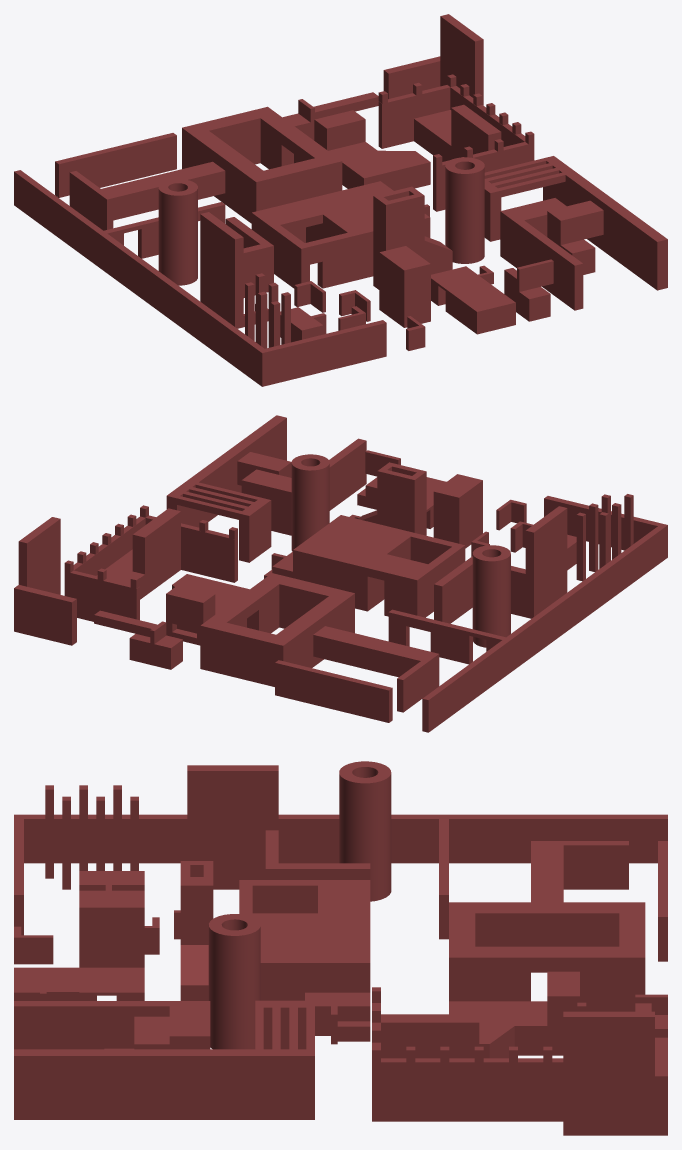
The model's file is my_robotics_gym.dae.
3 views of the same model, one above another, from view 1: azimuth 30°, elevation 25°; view 2: azimuth 150°, elevation 25°; view 3: azimuth 270°, elevation 25° (orthographic). The views are drawn at different scales.
Visible parts, largest first — view 1: Diferencia, group_17, Diferencia.001, Unir.004, group_9, group_5, group_18, group_41, group_25, Unir.002, group_48, group_31 (+25 smaller); view 2: Diferencia.001, Diferencia, group_17, Unir.004, group_41, group_25, group_5, Unir.005, group_9, group_15, group_31, Unir.002 (+24 smaller); view 3: group_9, group_17, Diferencia, Diferencia.001, Unir.004, group_29, group_25, group_5, group_48, group_31, group_20, Unir (+24 smaller).
Boxes of the visible parts, <box> form: Diferencia: <box>182,106,342,223</box>; group_17: <box>14,170,268,386</box>; Diferencia.001: <box>251,181,430,288</box>; Unir.004: <box>378,74,534,211</box>; group_9: <box>543,156,667,290</box>; group_5: <box>500,198,583,310</box>; group_18: <box>265,320,386,385</box>; group_41: <box>55,133,176,197</box>; group_25: <box>200,212,243,328</box>; Unir.002: <box>373,186,452,289</box>; group_48: <box>445,157,484,263</box>; group_31: <box>158,179,197,285</box>; Diferencia.001: <box>293,515,465,617</box>; Diferencia: <box>200,573,354,686</box>; group_17: <box>422,523,667,732</box>; Unir.004: <box>64,505,237,621</box>; group_41: <box>275,660,392,722</box>; group_25: <box>525,506,567,618</box>; group_5: <box>241,438,366,535</box>; Unir.005: <box>96,508,180,599</box>; group_9: <box>166,415,286,527</box>; group_15: <box>313,626,432,677</box>; group_31: <box>472,545,510,647</box>; Unir.002: <box>358,462,426,535</box>; group_9: <box>14,1049,314,1119</box>; group_17: <box>14,814,667,863</box>; Diferencia: <box>449,902,645,1011</box>; Diferencia.001: <box>239,880,370,1000</box>; Unir.004: <box>372,987,586,1121</box>; group_29: <box>563,1011,654,1135</box>; group_25: <box>187,765,278,889</box>; group_5: <box>14,1001,210,1049</box>; group_48: <box>208,914,260,1049</box>; group_31: <box>339,761,391,901</box>; group_20: <box>79,890,144,967</box>; Unir: <box>449,1001,563,1058</box>.
Size of the model in its own units: 10 by 10 by 2.
